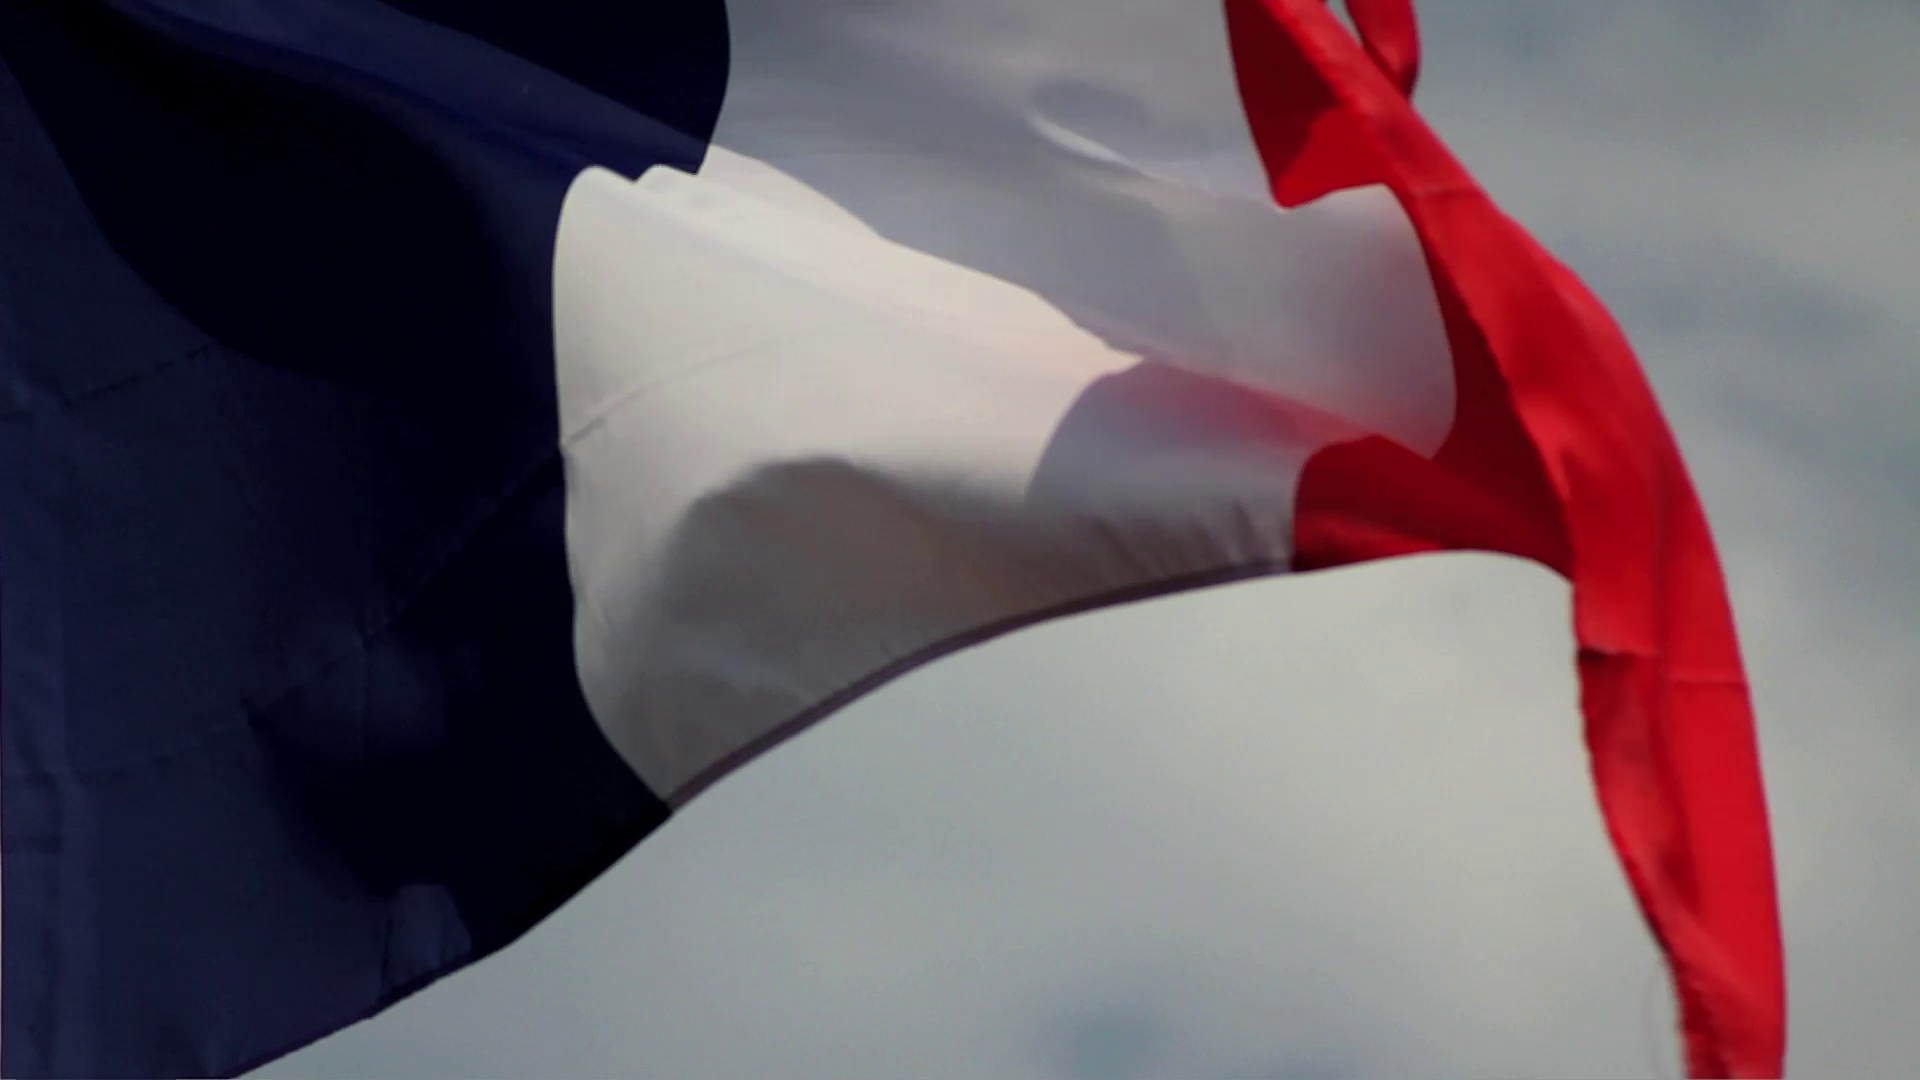French Flag: (1, 1, 1800, 1079)
